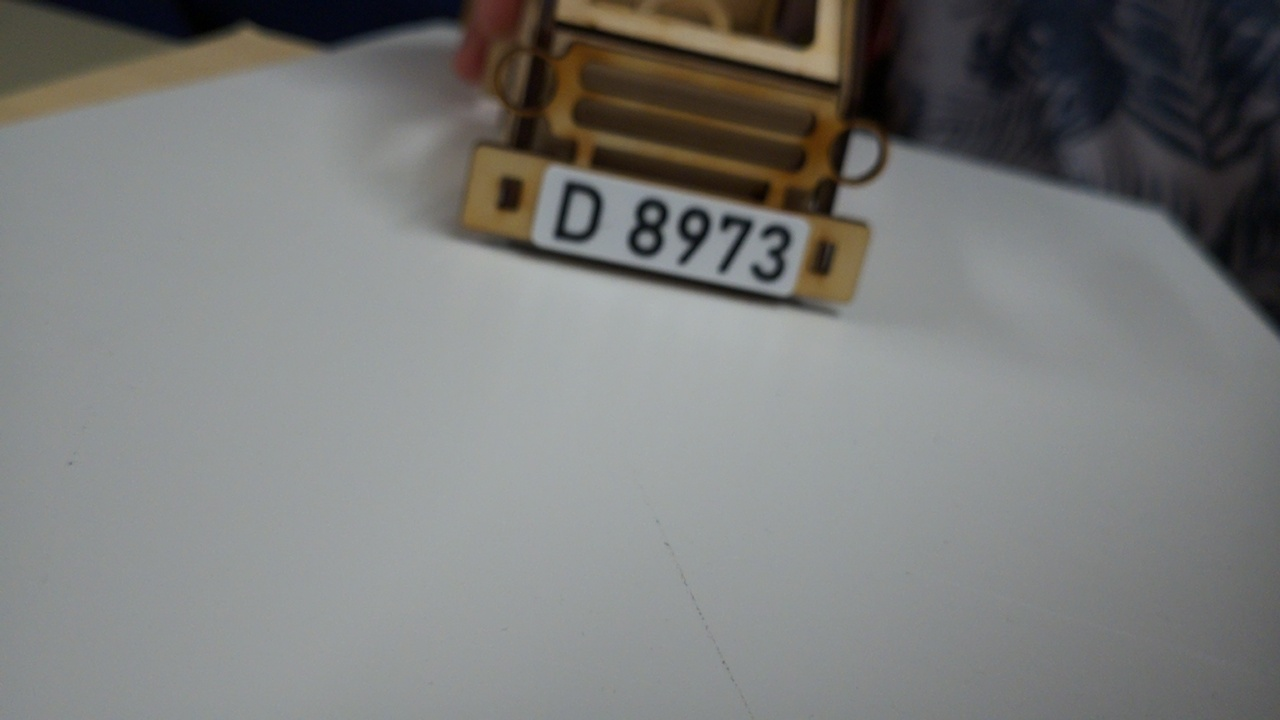license_plate: (528, 161, 813, 300)
